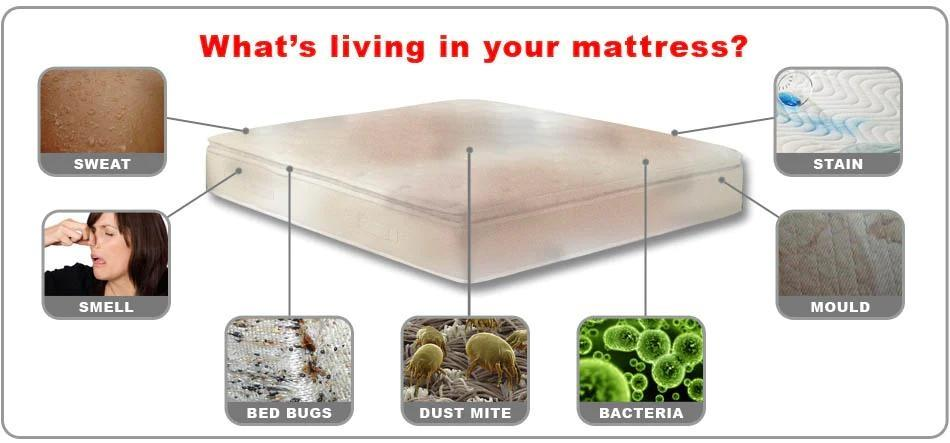Bed-Mattress: (190, 91, 752, 294)
